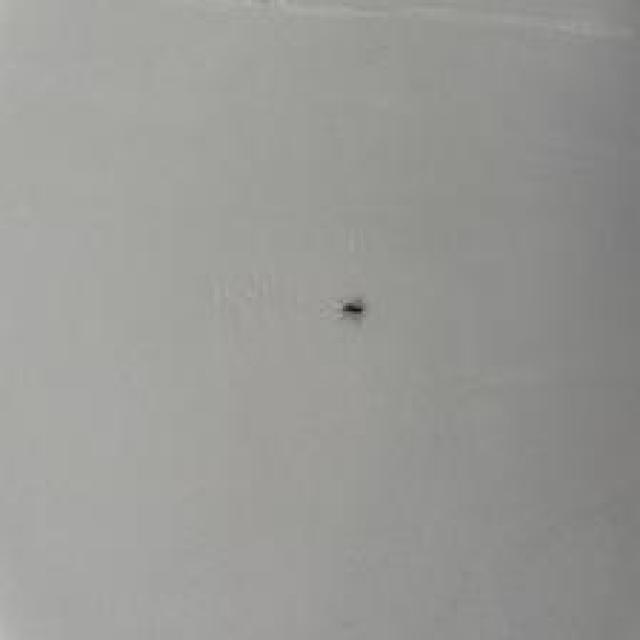Culex: (339, 298, 364, 318)
